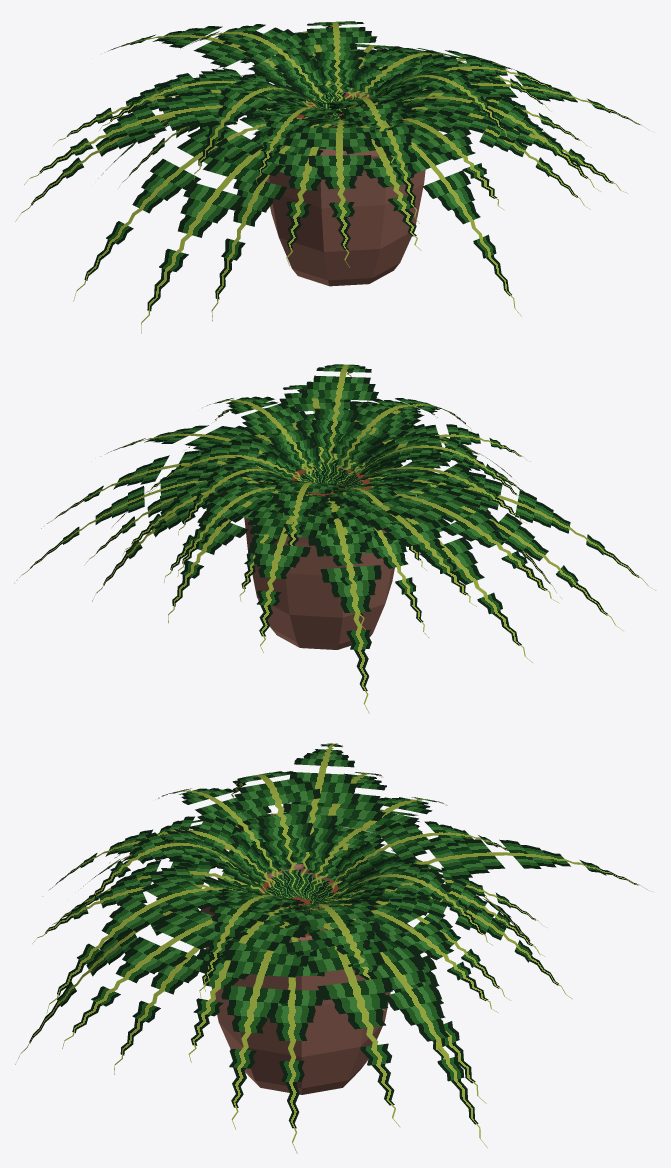
The model's file is boston_fern.gltf.
3 renders of one model, top to bottom at view 1: azimuth 30°, elevation 25°; view 2: azimuth 150°, elevation 25°; view 3: azimuth 270°, elevation 25°, orthographic. The views are drawn at different scales.
Parts seen in each view (by area): view 1: Pot, FrondCard_033, FrondCard_022, FrondCard_011, FrondCard_003, FrondCard_013, FrondCard_020, FrondCard_027, FrondCard_017, FrondCard_016, FrondCard_023, FrondCard_018 (+19 smaller); view 2: Pot, FrondCard_003, FrondCard_023, FrondCard_004, FrondCard_024, FrondCard_026, FrondCard_022, FrondCard_010, FrondCard_033, FrondCard_041, FrondCard_015, FrondCard_031 (+22 smaller); view 3: Pot, FrondCard_040, FrondCard_028, FrondCard_021, FrondCard_019, FrondCard_035, FrondCard_027, FrondCard_029, FrondCard_023, FrondCard_020, FrondCard_007, FrondCard_014 (+22 smaller).
Part boxes in pixels (<box>): Pot: <box>258,92,425,286</box>; FrondCard_033: <box>141,131,296,333</box>; FrondCard_022: <box>73,116,326,301</box>; FrondCard_011: <box>295,118,380,267</box>; FrondCard_003: <box>24,89,310,184</box>; FrondCard_013: <box>370,119,521,316</box>; FrondCard_020: <box>191,24,331,109</box>; FrondCard_027: <box>390,81,600,191</box>; FrondCard_017: <box>211,118,334,321</box>; FrondCard_016: <box>298,21,377,100</box>; FrondCard_023: <box>100,26,321,104</box>; FrondCard_018: <box>371,109,504,210</box>; Pot: <box>244,466,394,649</box>; FrondCard_003: <box>370,483,559,603</box>; FrondCard_023: <box>248,501,334,652</box>; FrondCard_004: <box>300,364,378,477</box>; FrondCard_024: <box>308,504,383,713</box>; FrondCard_026: <box>330,398,437,484</box>; FrondCard_022: <box>338,478,623,630</box>; FrondCard_010: <box>333,495,476,606</box>; FrondCard_033: <box>345,469,656,590</box>; FrondCard_041: <box>345,497,532,662</box>; FrondCard_015: <box>168,483,313,623</box>; FrondCard_031: <box>202,396,320,480</box>; Pot: <box>200,864,390,1094</box>; FrondCard_040: <box>285,904,400,1127</box>; FrondCard_028: <box>221,909,316,1129</box>; FrondCard_021: <box>231,771,320,892</box>; FrondCard_019: <box>306,908,487,1147</box>; FrondCard_035: <box>62,901,290,1048</box>; FrondCard_027: <box>46,874,282,1013</box>; FrondCard_029: <box>286,743,360,897</box>; FrondCard_023: <box>321,837,652,907</box>; FrondCard_020: <box>314,821,508,901</box>; FrondCard_007: <box>280,900,385,1010</box>; FrondCard_014: <box>188,905,304,1062</box>.
Bounding box in the file's own units: 7 × 2.56 × 6.04.
3 materials, 3 textured.
